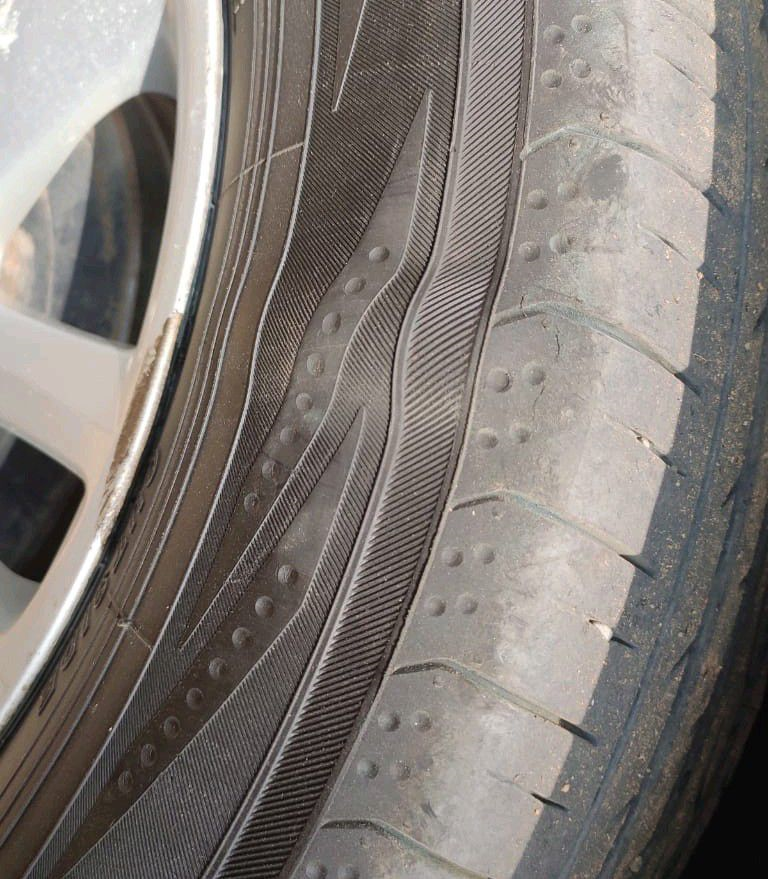CBU: (274, 225, 606, 659)
